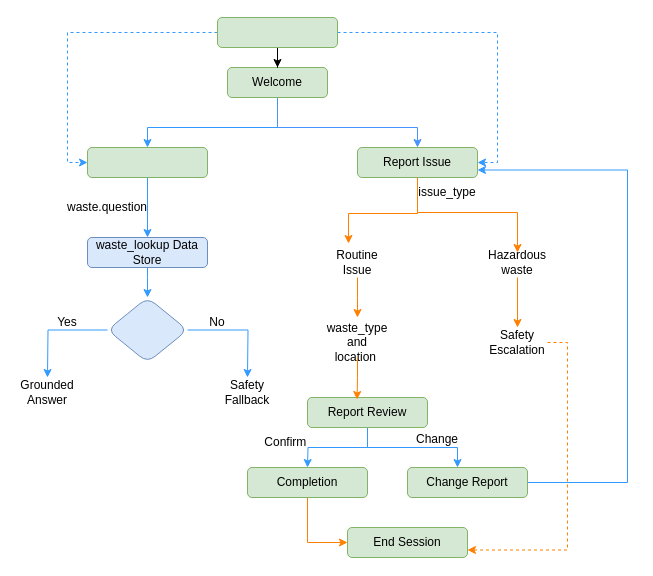
Image size: 653x576. Some labels were removed from this diagram. Each missing label, with the centre of its shape:
Evidence found?: (147,329)
Start Page: (277,32)
Waste Guidance: (147,162)
